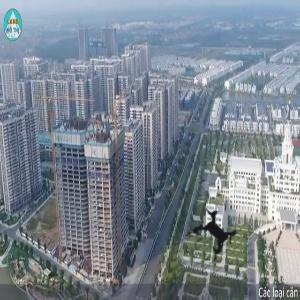drone: (169, 190, 261, 282)
